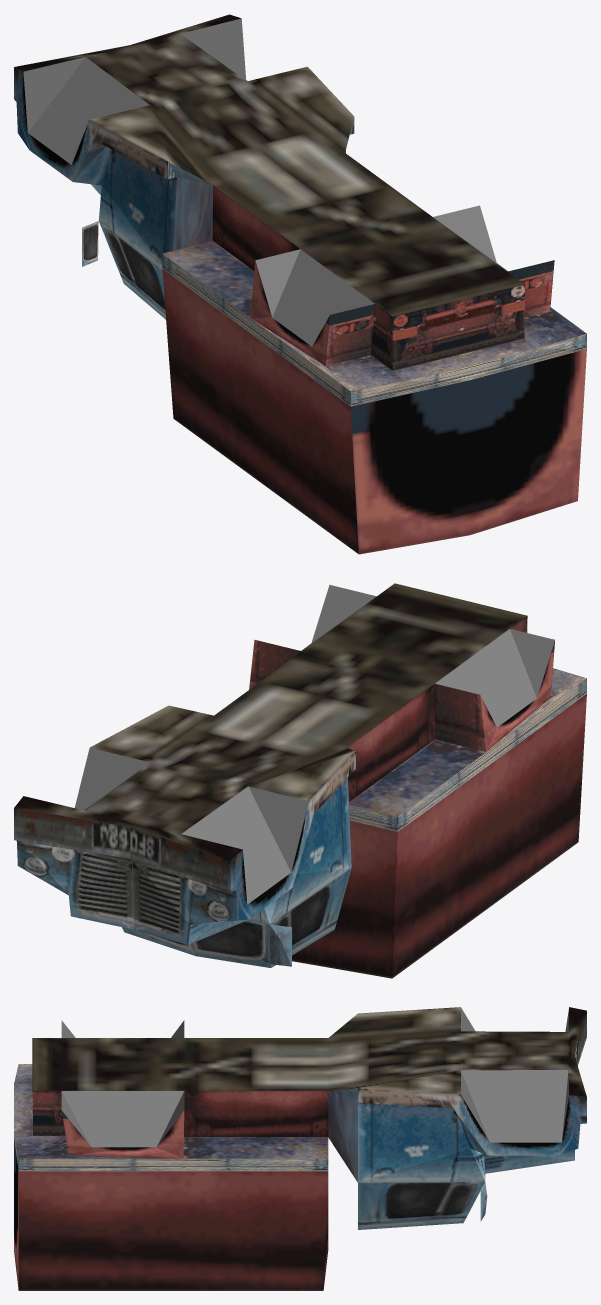
The model's file is HAVANA_model9_damaged.obj.
3 views of the same model, one above another, from view 1: azimuth 30°, elevation 25°; view 2: azimuth 150°, elevation 25°; view 3: azimuth 270°, elevation 25° (orthographic). The views are drawn at different scales.
Parts seen in each view (by area): view 1: HAVANA_model9_damaged; view 2: HAVANA_model9_damaged; view 3: HAVANA_model9_damaged.
Boxes of the visible parts, x1,y1,x2,y2 form: HAVANA_model9_damaged: (14,14,586,554); HAVANA_model9_damaged: (14,583,586,978); HAVANA_model9_damaged: (14,1007,586,1290).
Bounding box in the file's own units: 340 × 334 × 868.
15 materials, 14 textured.
